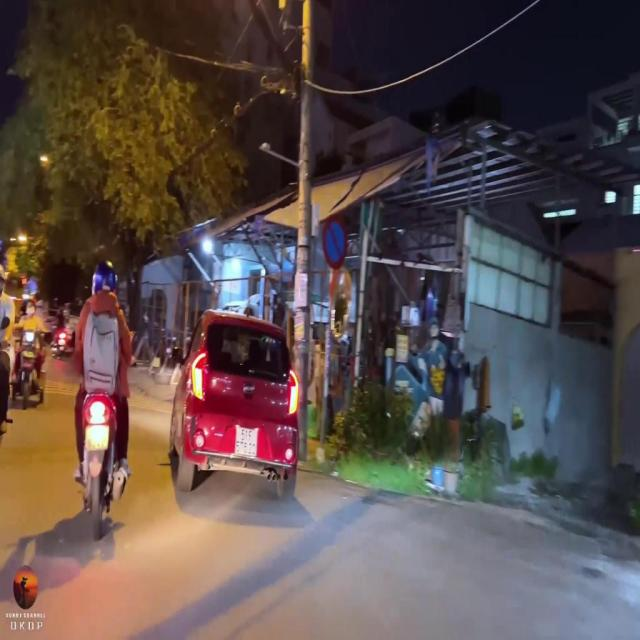cam_do_xe: (323, 214, 348, 270)
